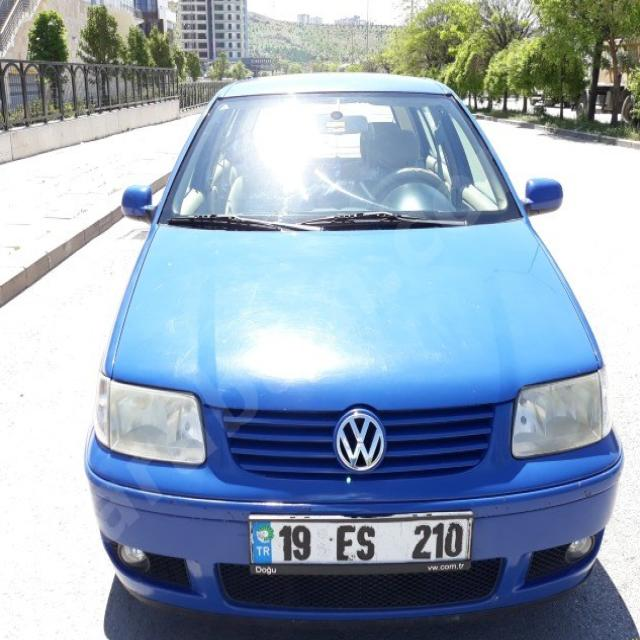license_plate: (249, 516, 473, 564)
